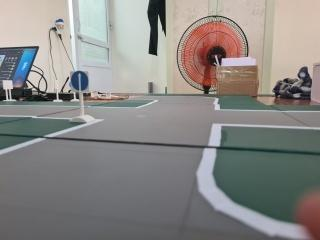straight: (68, 70, 90, 93)
